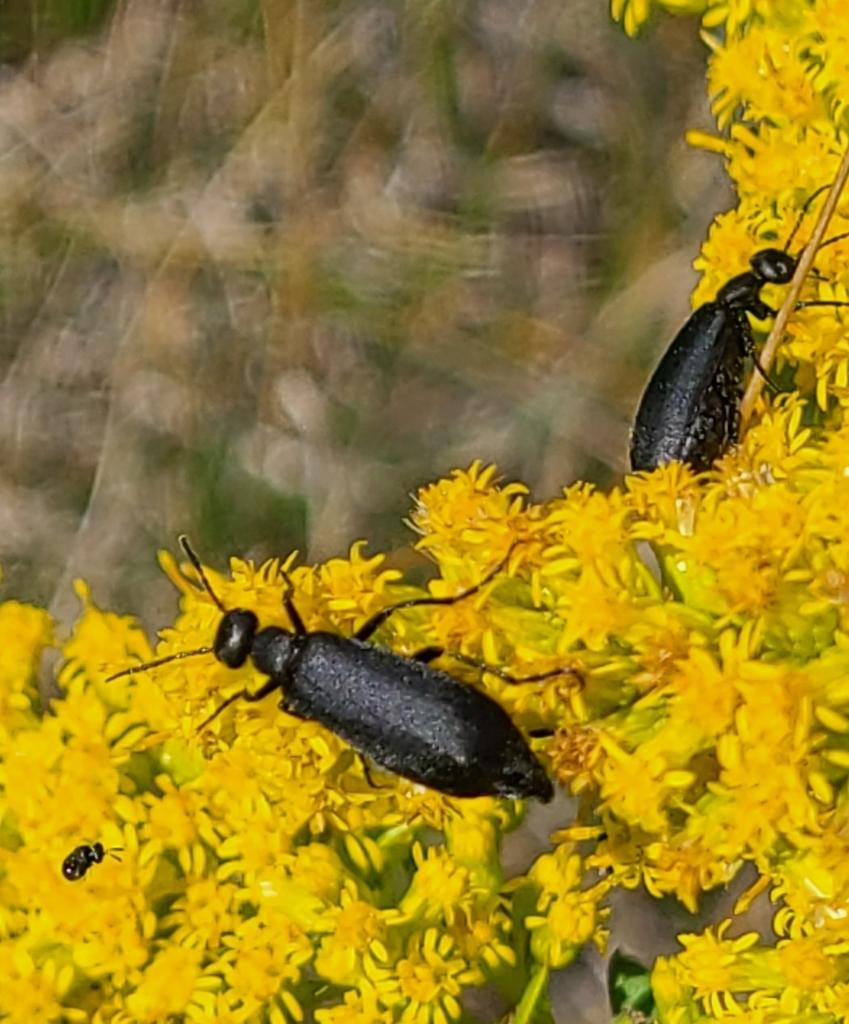blister_beetle: (62, 470, 624, 875)
